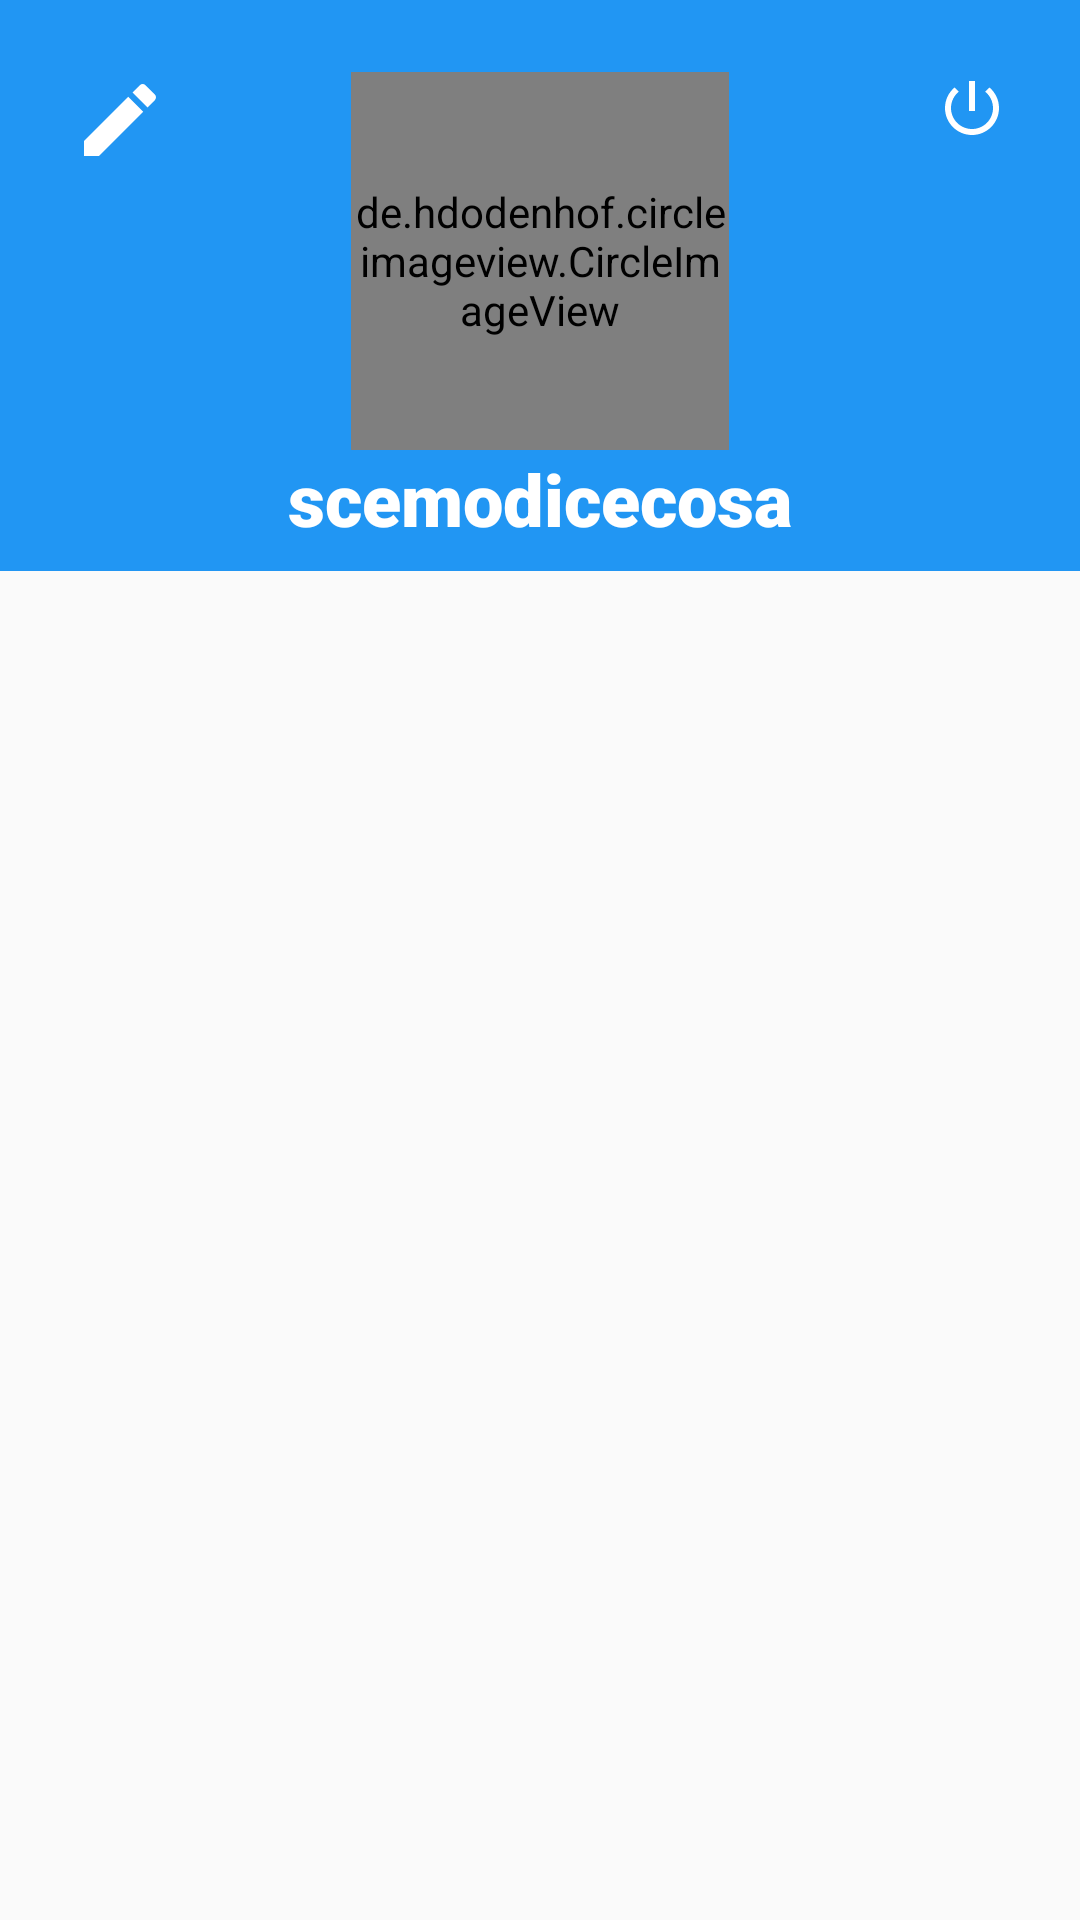

Named icons in this screenshot (1080px×1920px) and their bounding boxes, (x1, y1, x2, y2):
edit: (84, 84, 156, 156)
power settings: (945, 81, 999, 135)
